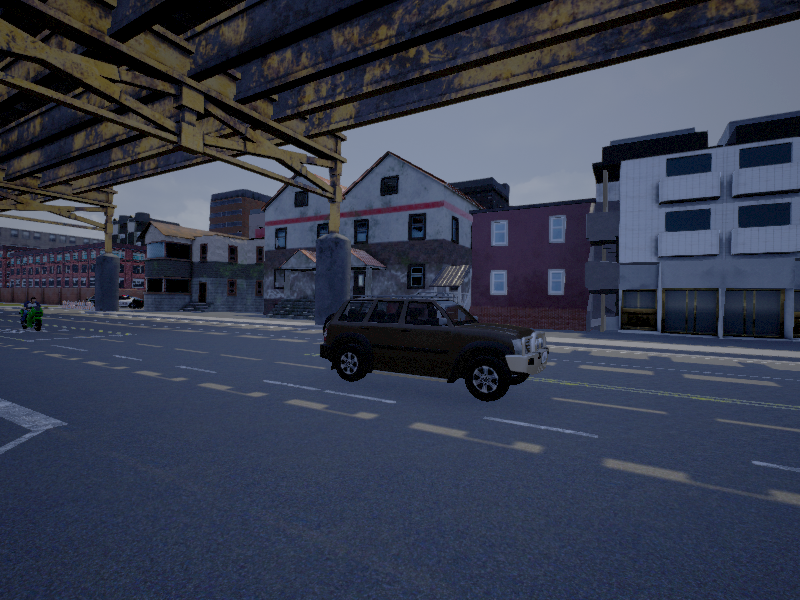benign: (316, 298, 551, 404)
